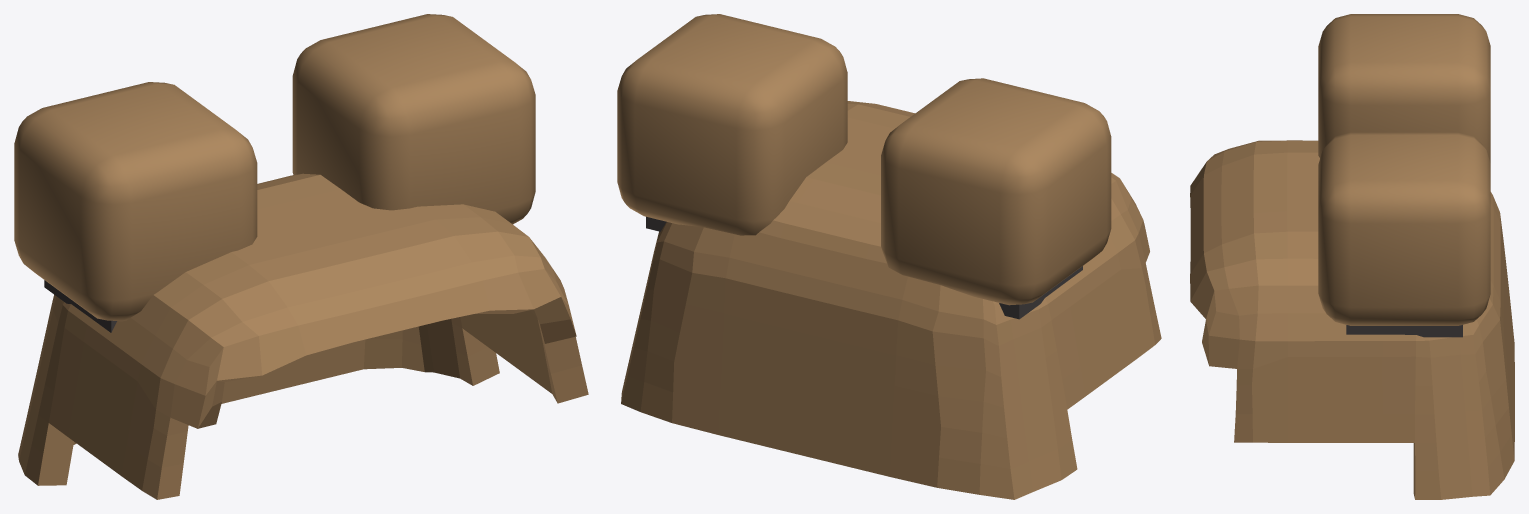
The model's file is hair-buns-brown.glb.
The picture shows the model from 3 angles, left to right: view 1: azimuth 30°, elevation 25°; view 2: azimuth 150°, elevation 25°; view 3: azimuth 270°, elevation 25°; orthographic projection. The views are drawn at different scales.
Parts seen in each view (by area): view 1: hair_shell, hair_bun_-1, hair_bun_1; view 2: hair_shell, hair_bun_-1, hair_bun_1, hair_buntie_-1; view 3: hair_shell, hair_bun_1, hair_bun_-1, hair_buntie_1.
Part boxes in pixels (box(x1,y1,x2,y2)): hair_shell: box(18, 173, 588, 499); hair_bun_-1: box(14, 82, 257, 321); hair_bun_1: box(292, 14, 535, 224); hair_shell: box(621, 101, 1161, 499); hair_bun_-1: box(881, 78, 1111, 305); hair_bun_1: box(617, 14, 847, 235); hair_buntie_-1: box(999, 266, 1082, 319); hair_shell: box(1190, 140, 1514, 499); hair_bun_1: box(1318, 132, 1490, 325); hair_bun_-1: box(1318, 14, 1490, 163); hair_buntie_1: box(1346, 325, 1462, 337).
Bounding box in the file's own units: 0.458 × 0.3411 × 0.3202.
